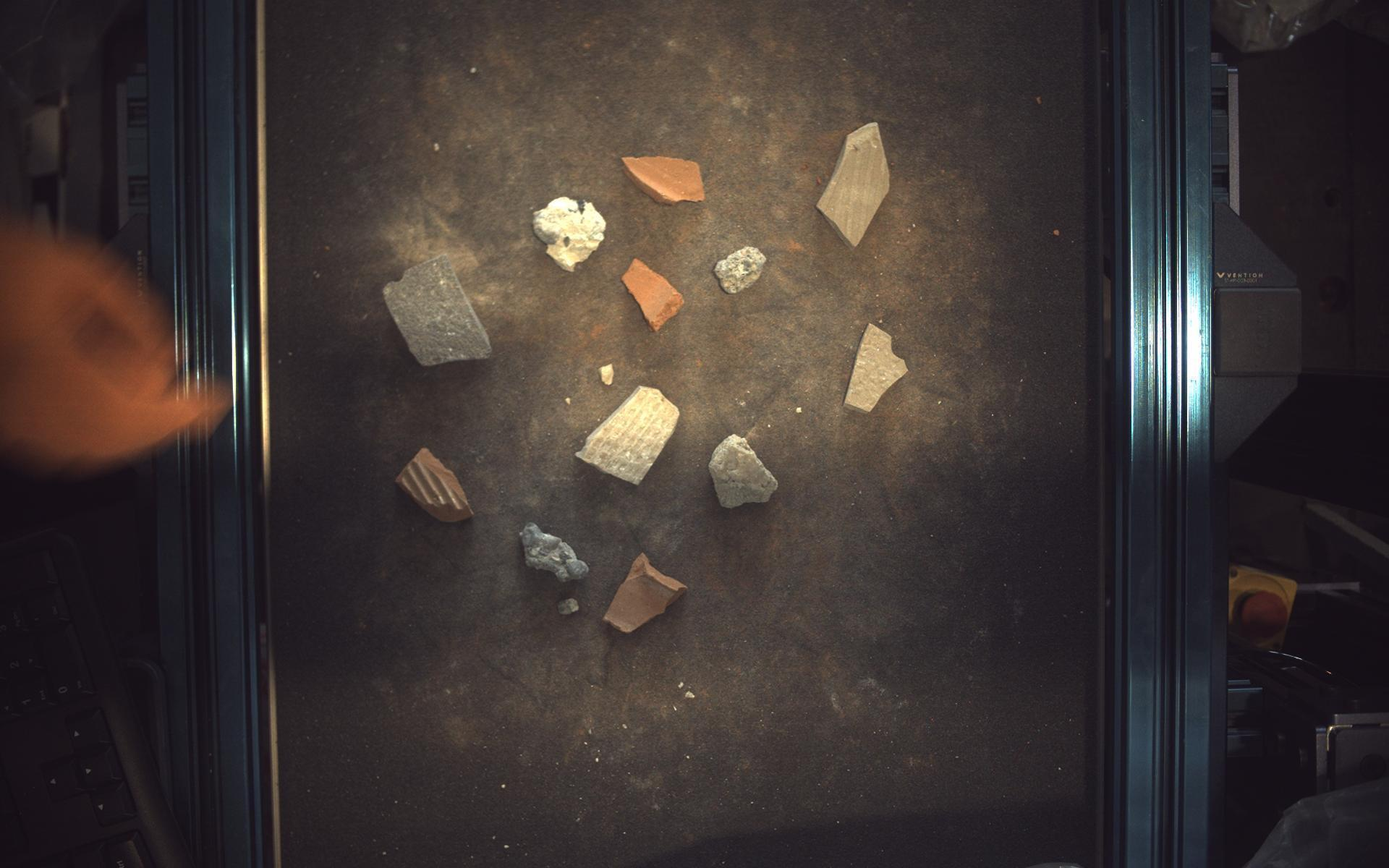brick: (605, 553, 688, 634), (396, 448, 474, 522), (622, 258, 685, 331), (623, 156, 706, 204)
concrete: (534, 196, 607, 271), (710, 435, 779, 509), (520, 524, 590, 582), (715, 246, 768, 293)
tile: (383, 254, 492, 366), (577, 386, 681, 485), (819, 122, 891, 247), (846, 323, 909, 412)
